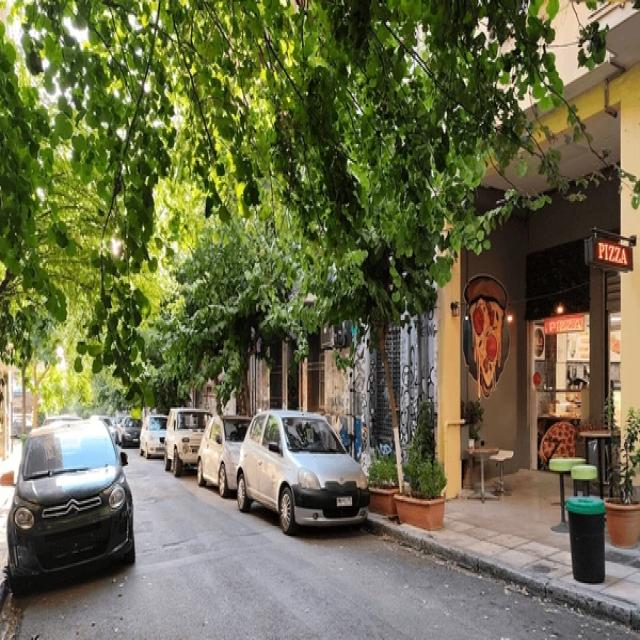citroen: (65, 494, 82, 521)
